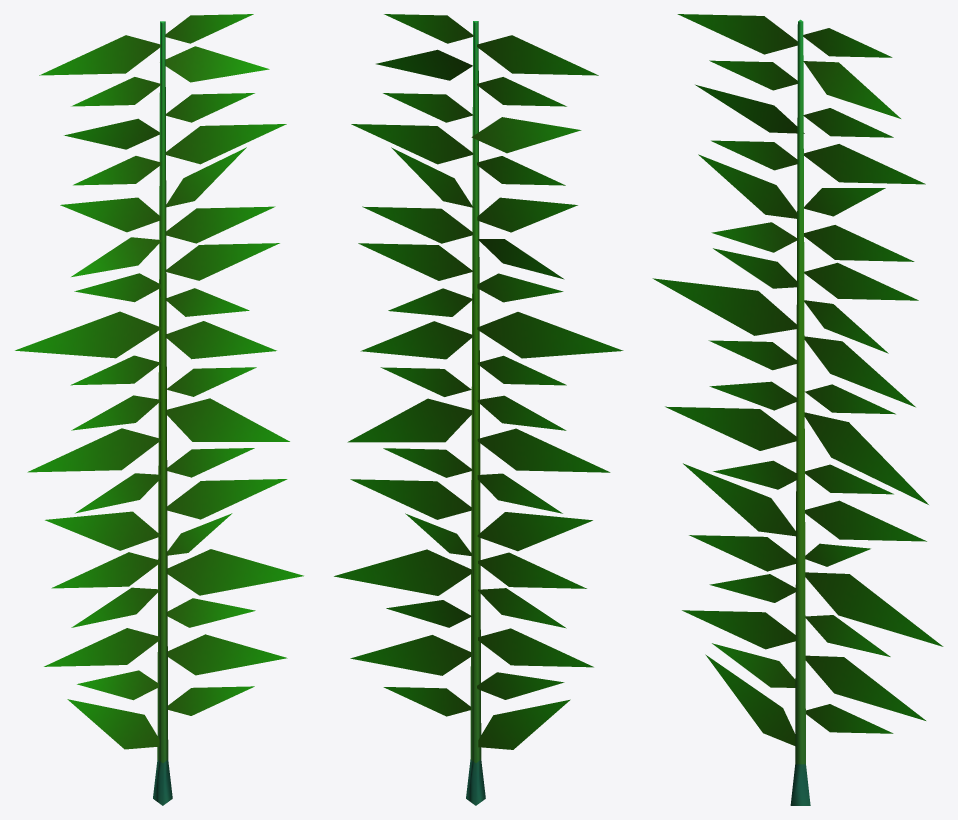
The model's file is algue01S.FBX.
The picture shows the model from 3 angles, left to right: view 1: azimuth 30°, elevation 25°; view 2: azimuth 150°, elevation 25°; view 3: azimuth 330°, elevation 25°; orthographic projection.
Parts seen in each view (by area): view 1: algue01S_LOD00; view 2: algue01S_LOD00; view 3: algue01S_LOD00.
Boxes of the visible parts, x1,y1,x2,y2 form: algue01S_LOD00: (15,14,303,805); algue01S_LOD00: (334,14,623,805); algue01S_LOD00: (652,14,943,805).
Size of what is drawn, in the model's own units: 6.42 by 16.44 by 0.3821.
